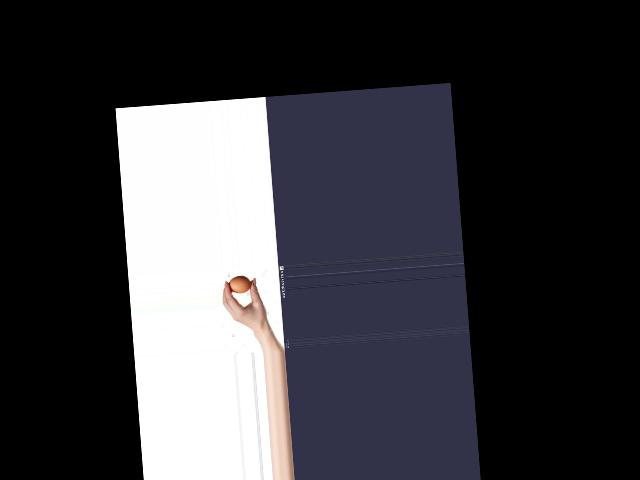egg: (228, 275, 251, 294)
